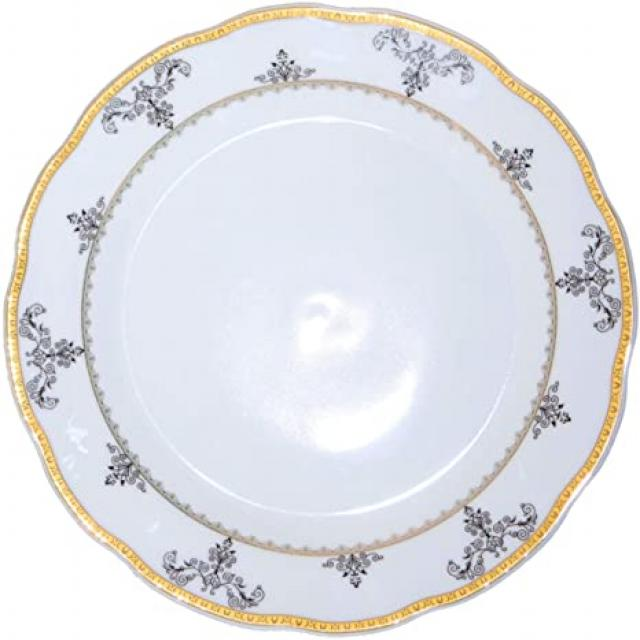non-organic waste: (11, 27, 639, 634)
